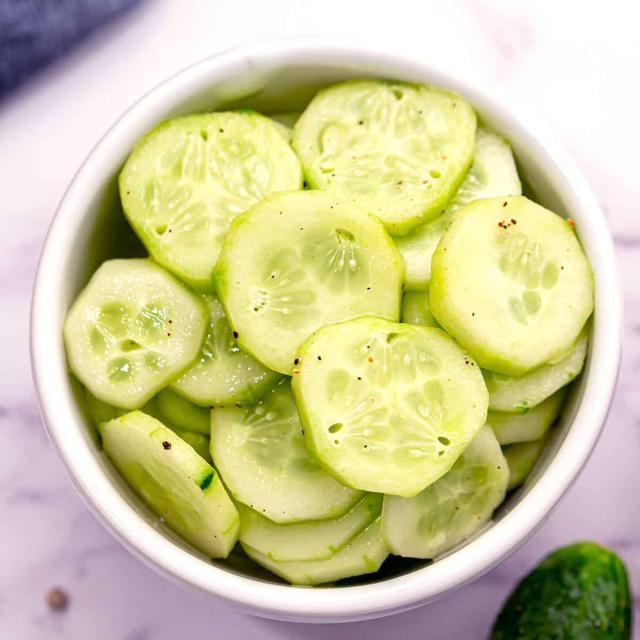Pickle: (292, 316, 489, 498), (212, 190, 404, 374), (119, 110, 302, 292), (430, 196, 594, 376), (292, 80, 476, 235), (210, 379, 364, 524), (64, 259, 208, 409), (100, 411, 240, 558), (381, 424, 510, 558)
